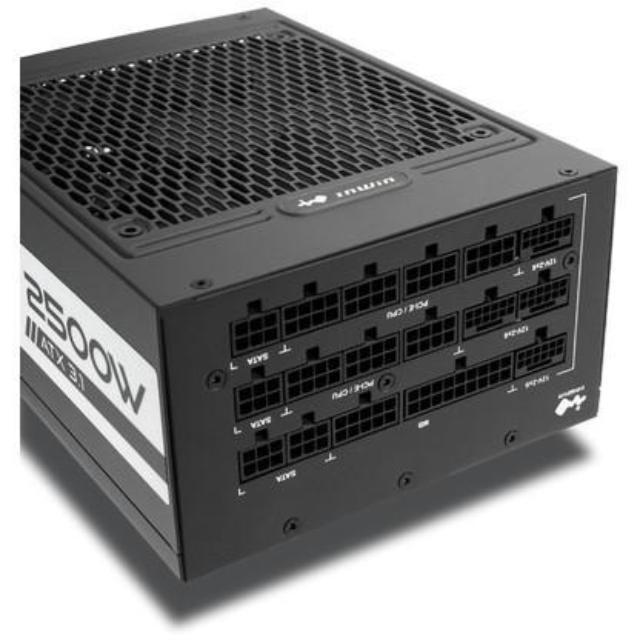PSU: (18, 5, 624, 590)
